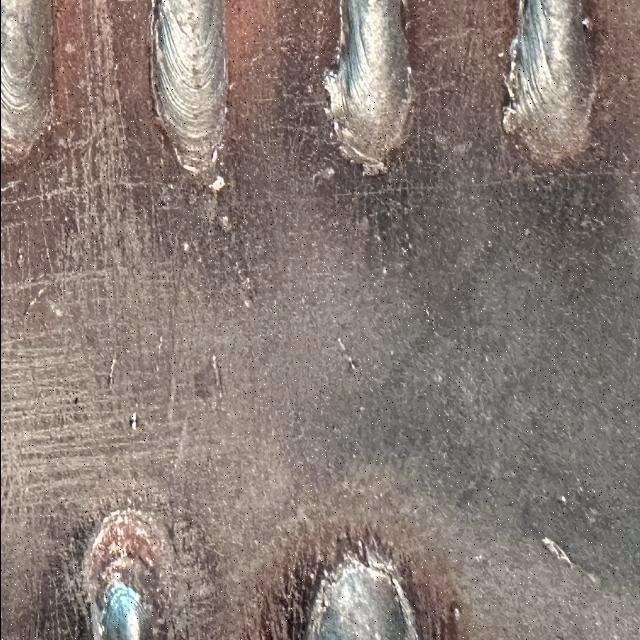Excess Reinforcement: (82, 508, 172, 612), (506, 120, 590, 165), (172, 147, 225, 193), (322, 68, 344, 155), (502, 35, 518, 133), (362, 162, 386, 177)
Spatters: (541, 537, 572, 567), (398, 198, 412, 260), (336, 337, 355, 372), (107, 355, 115, 388), (449, 603, 460, 622), (580, 15, 591, 32), (15, 247, 24, 267), (129, 412, 138, 429), (22, 302, 31, 317)
